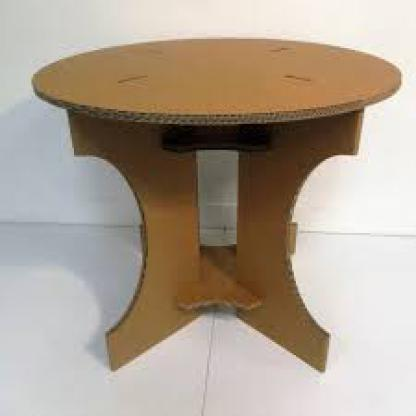CARDBOARD: (68, 109, 362, 372), (30, 35, 400, 126)
